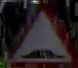Speed Breaker ahead: (6, 5, 75, 63)
